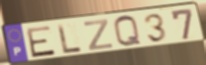3: (143, 13, 169, 42)
7: (169, 8, 194, 41)
E: (25, 25, 58, 59)
L: (56, 23, 84, 55)
Q: (112, 14, 144, 49)
Z: (82, 18, 114, 52)
